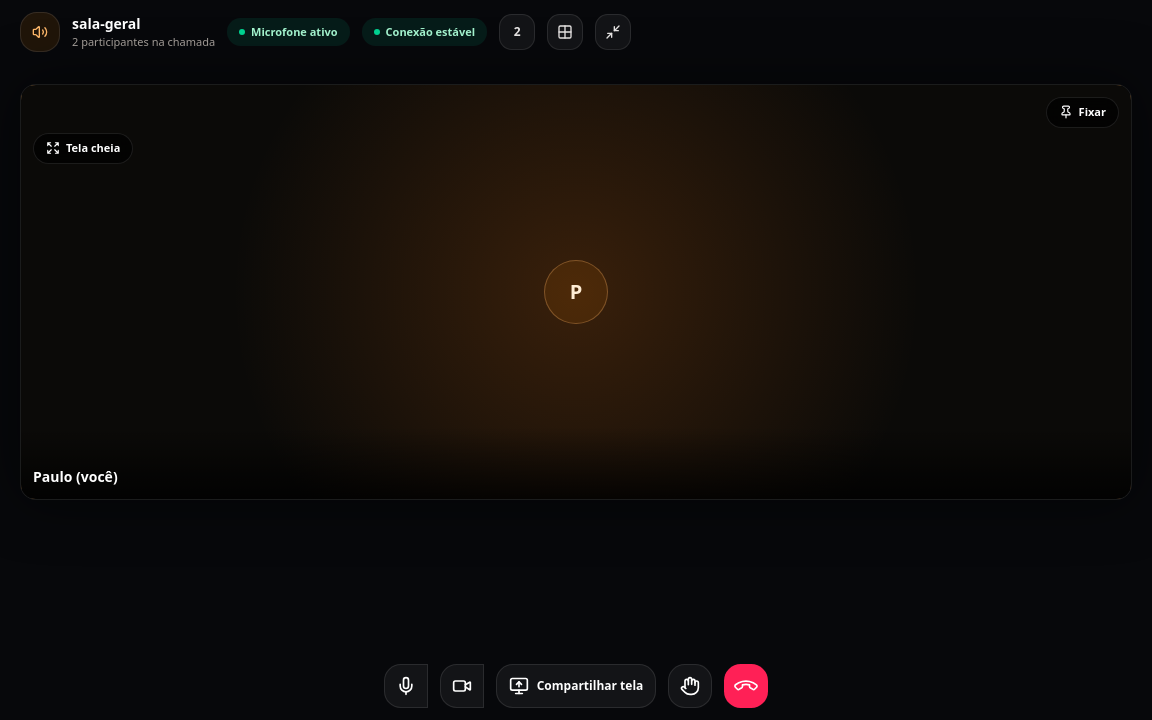
Scenario: CallStage › permite fixar e desafixar o participante exibido no palco
The width and height of the screenshot is (1152, 720).
What coordinates should you click on to do the following:
click the button "Fixar"
I would click on:
 (1082, 112)
Its box is [1046,97,1119,128].
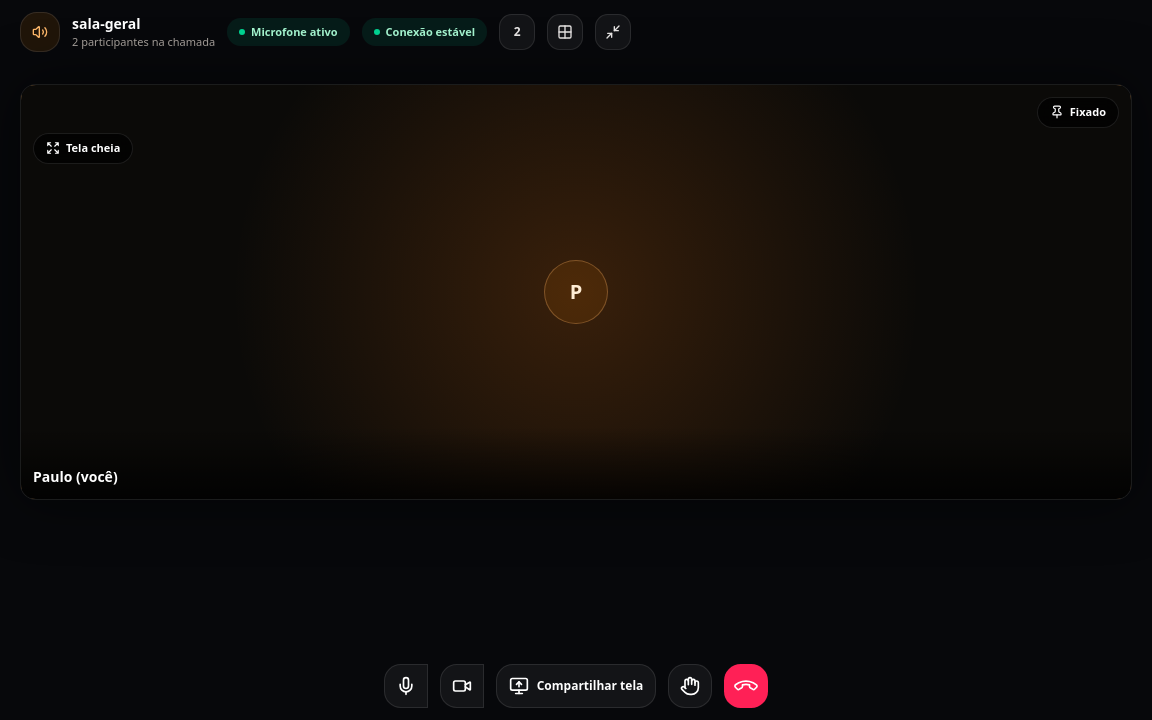
Check: the button "Fixado" is shown
What coordinates should you click on to do the following:
click the button "Fixado"
I would click on:
 (1078, 112)
Its box is [1037,97,1119,128].
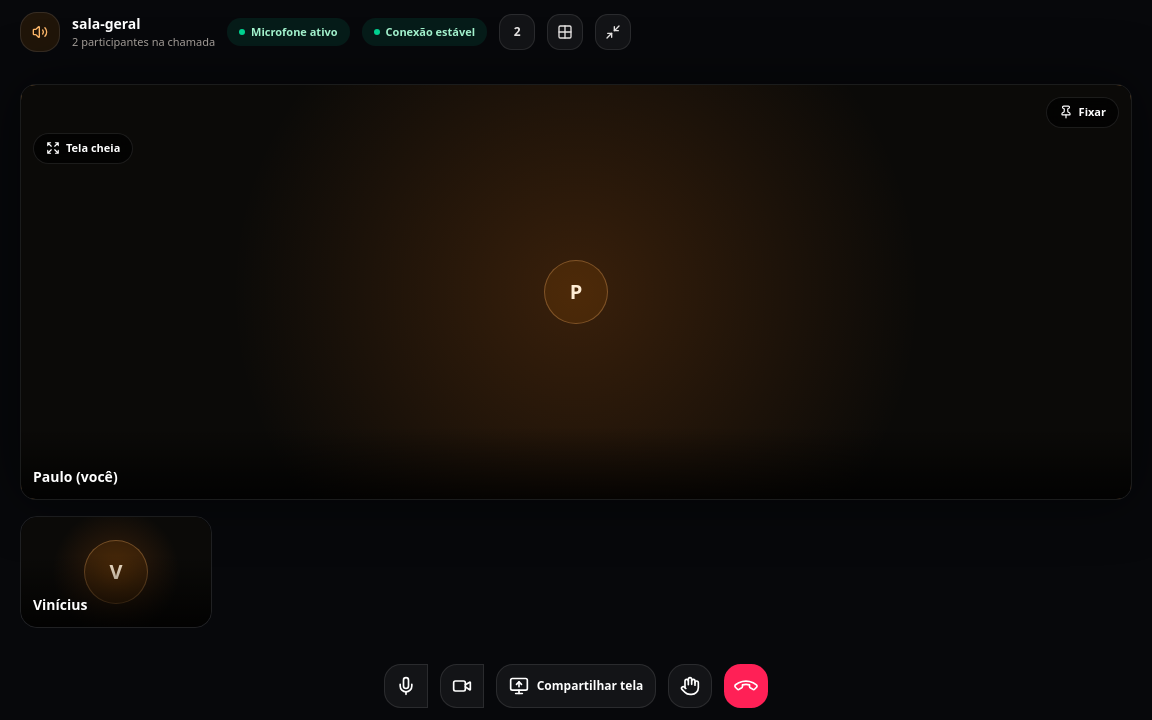
Check: the button "Fixar" is shown, box [1046,97,1119,128]
